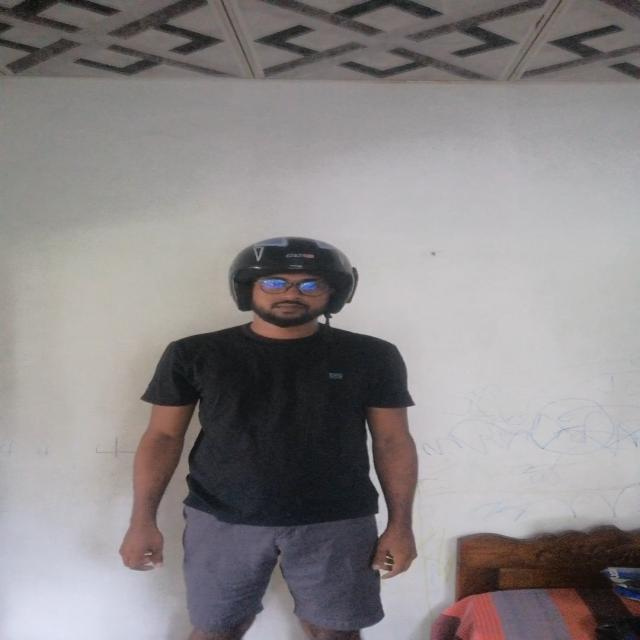Helmet_Wearer: (208, 237, 370, 346)
Person: (129, 238, 427, 640)
